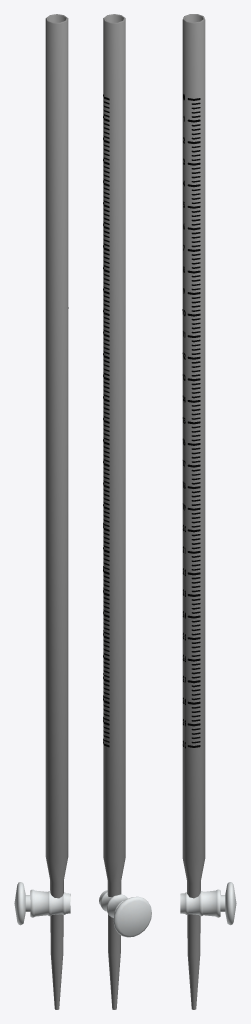
The model's file is SM_滴定管.fbx.
3 renders of one model, left to right at view 1: azimuth 90°, elevation 25°; view 2: azimuth 210°, elevation 25°; view 3: azimuth 270°, elevation 25°, orthographic.
Parts seen in each view (by area): view 1: SM_滴定管; view 2: SM_滴定管; view 3: SM_滴定管.
Boxes of the visible parts, x1=… form: SM_滴定管: x1=14, y1=14, x2=70, y2=1009; SM_滴定管: x1=99, y1=14, x2=151, y2=1009; SM_滴定管: x1=180, y1=14, x2=236, y2=1009.
Bounding box in the file's own units: 0.0276 × 0.6905 × 0.0354.
